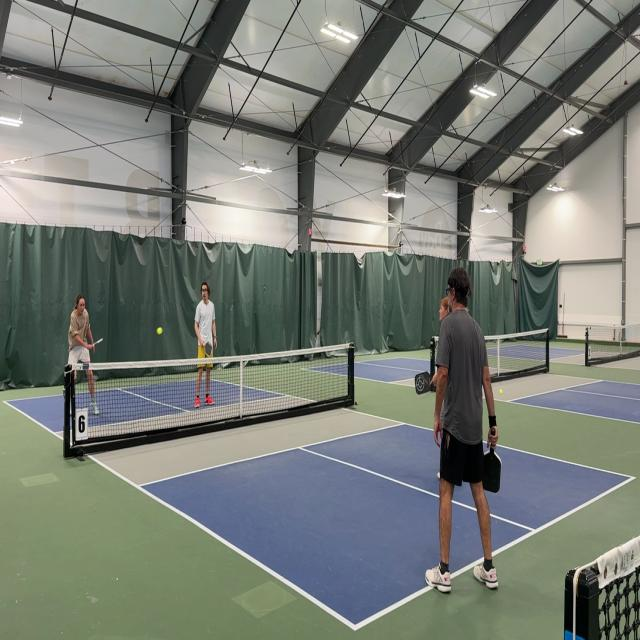ball: (156, 326, 163, 336)
